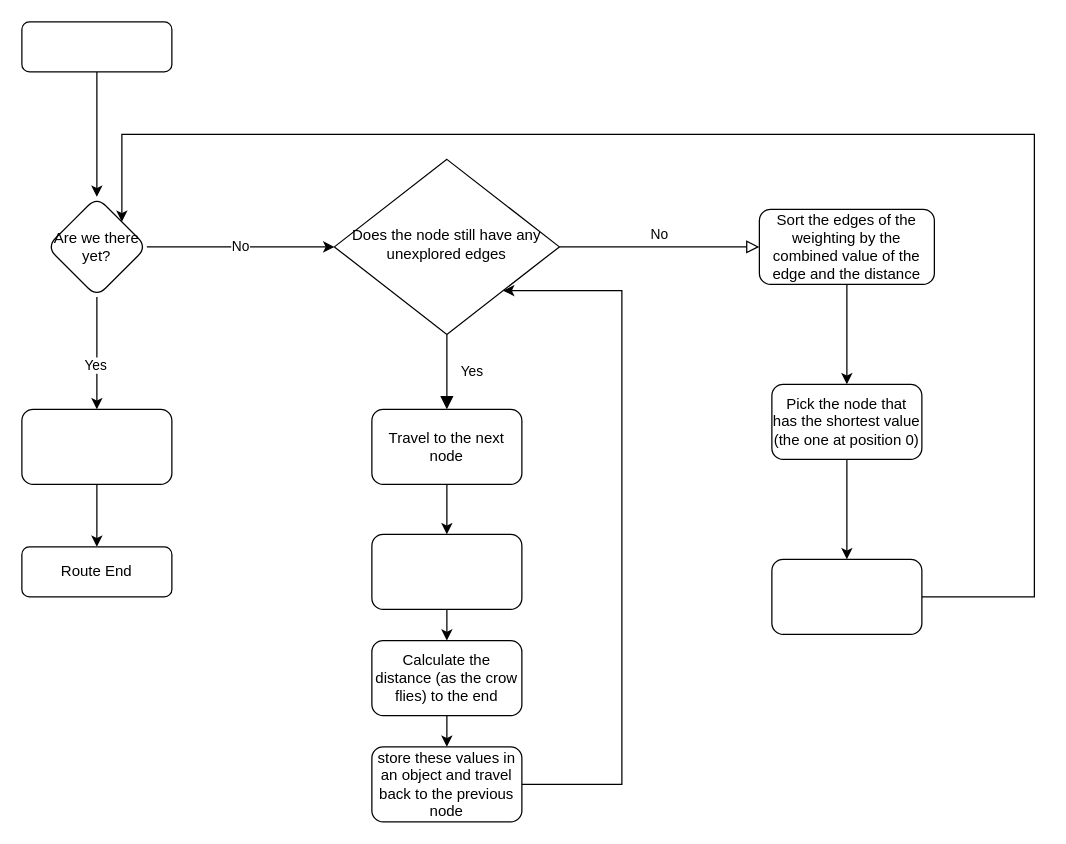
Some shapes in this 1066 by 844 pixel diagram are drawn without their labels. The shapes that lost their labels are listed below. From the top down, each one's centre as x and y in pixels, then its label:
point 96,46: Route Start
point 96,446: Reverse the list and travel back to the beginning
point 446,571: Multiply the weight of the edge and the time taken to travel the edge. Add on 2.
point 846,596: Travel to that node and store it in a list
